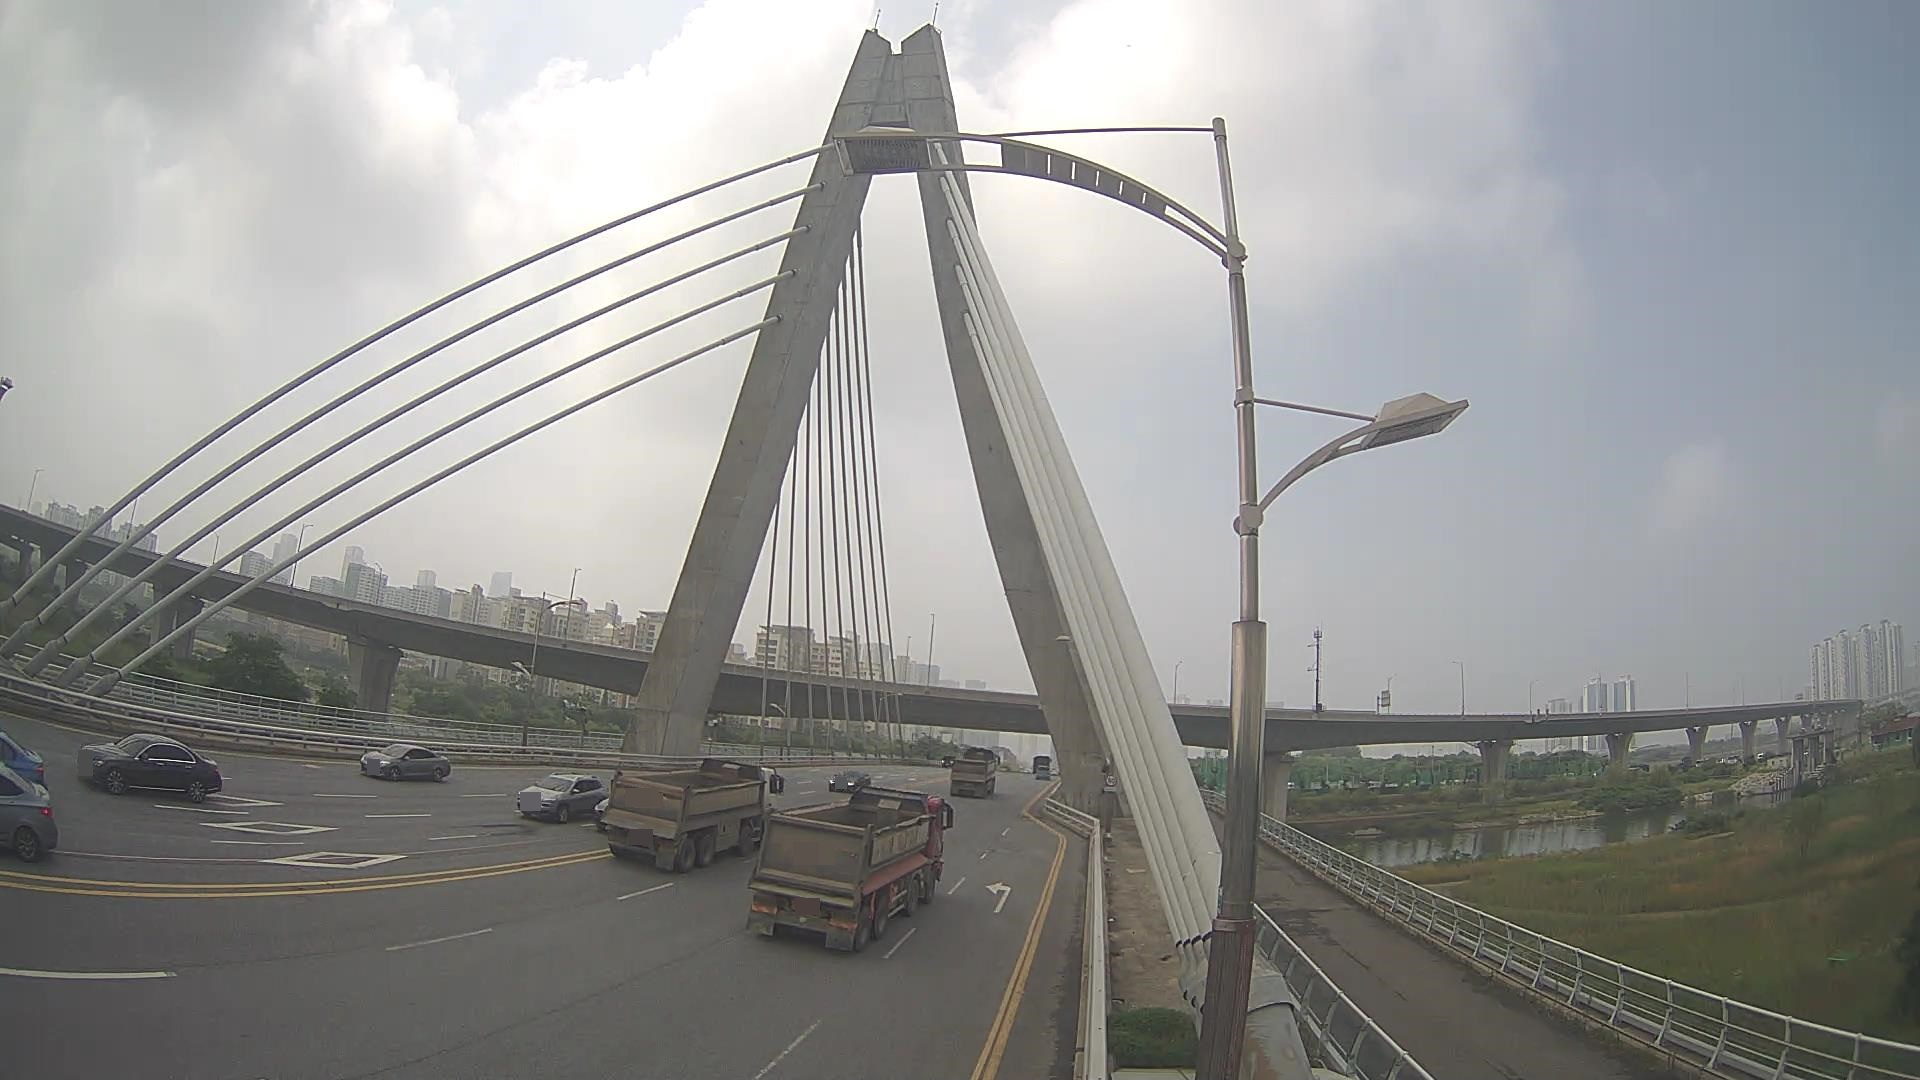정상차량: (745, 785, 953, 952)
